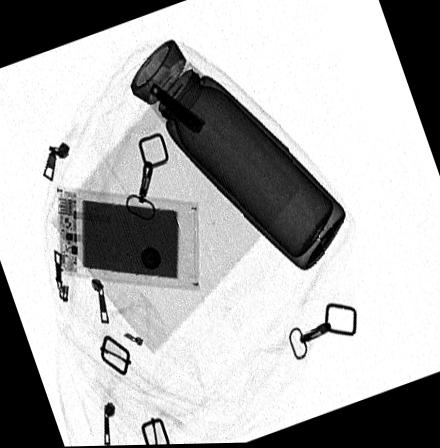Powerbank: (56, 185, 200, 291)
